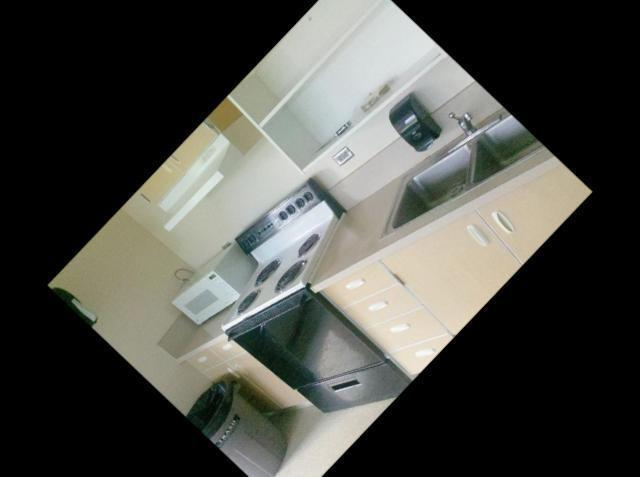Bote de Basura: (182, 370, 302, 477)
Lavaplatos: (363, 87, 544, 271)
